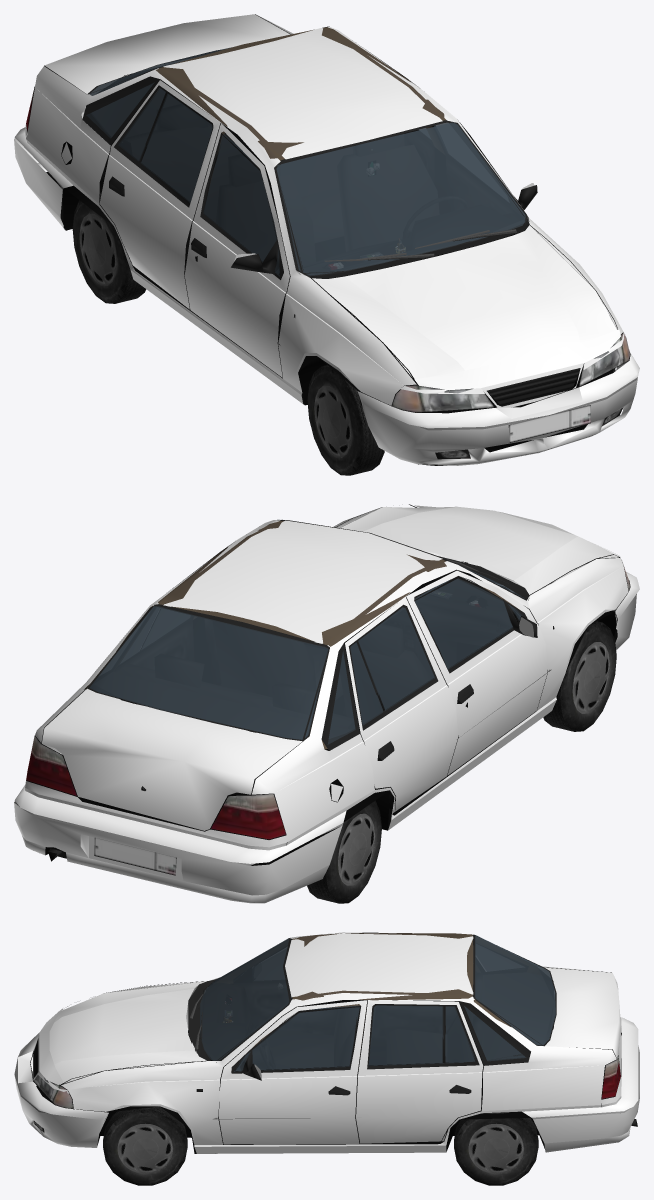
The model's file is nexia_lod.glb.
3 views of the same model, one above another, from view 1: azimuth 30°, elevation 25°; view 2: azimuth 150°, elevation 25°; view 3: azimuth 270°, elevation 25° (orthographic). The views are drawn at different scales.
Parts seen in each view (by area): view 1: Color_DN, Inter, steklo_DN, muho_DN_tun, FRDN, RRDN, kolpak1_1, kolpak1_3; view 2: Color_DN, Inter, steklo_DN, FRDN, RRDN, kolpak1_1, kolpak1_3; view 3: Color_DN, Inter, steklo_DN, FLDN, RLDN, kolpak1_2, kolpak1, muho_DN_tun.
Part boxes in pixels (<box>): Color_DN: <box>14,14,639,465</box>; Inter: <box>26,14,637,465</box>; steklo_DN: <box>86,47,526,276</box>; muho_DN_tun: <box>414,329,620,390</box>; FRDN: <box>307,365,384,475</box>; RRDN: <box>72,193,146,303</box>; kolpak1_1: <box>314,385,351,457</box>; kolpak1_3: <box>79,214,116,285</box>; Color_DN: <box>14,506,639,903</box>; Inter: <box>14,504,630,877</box>; steklo_DN: <box>90,519,524,744</box>; FRDN: <box>543,621,616,731</box>; RRDN: <box>307,800,381,903</box>; kolpak1_1: <box>572,642,609,713</box>; kolpak1_3: <box>338,813,374,885</box>; Color_DN: <box>14,932,639,1153</box>; Inter: <box>14,932,638,1153</box>; steklo_DN: <box>200,935,555,1071</box>; FLDN: <box>103,1106,187,1185</box>; RLDN: <box>454,1107,538,1185</box>; kolpak1_2: <box>468,1123,523,1173</box>; kolpak1: <box>117,1123,172,1173</box>; muho_DN_tun: <box>39,1008,63,1084</box>.
Size of the model in its own units: 1.77 by 1.32 by 4.17.
Materials: 12 (9 with a texture image).
